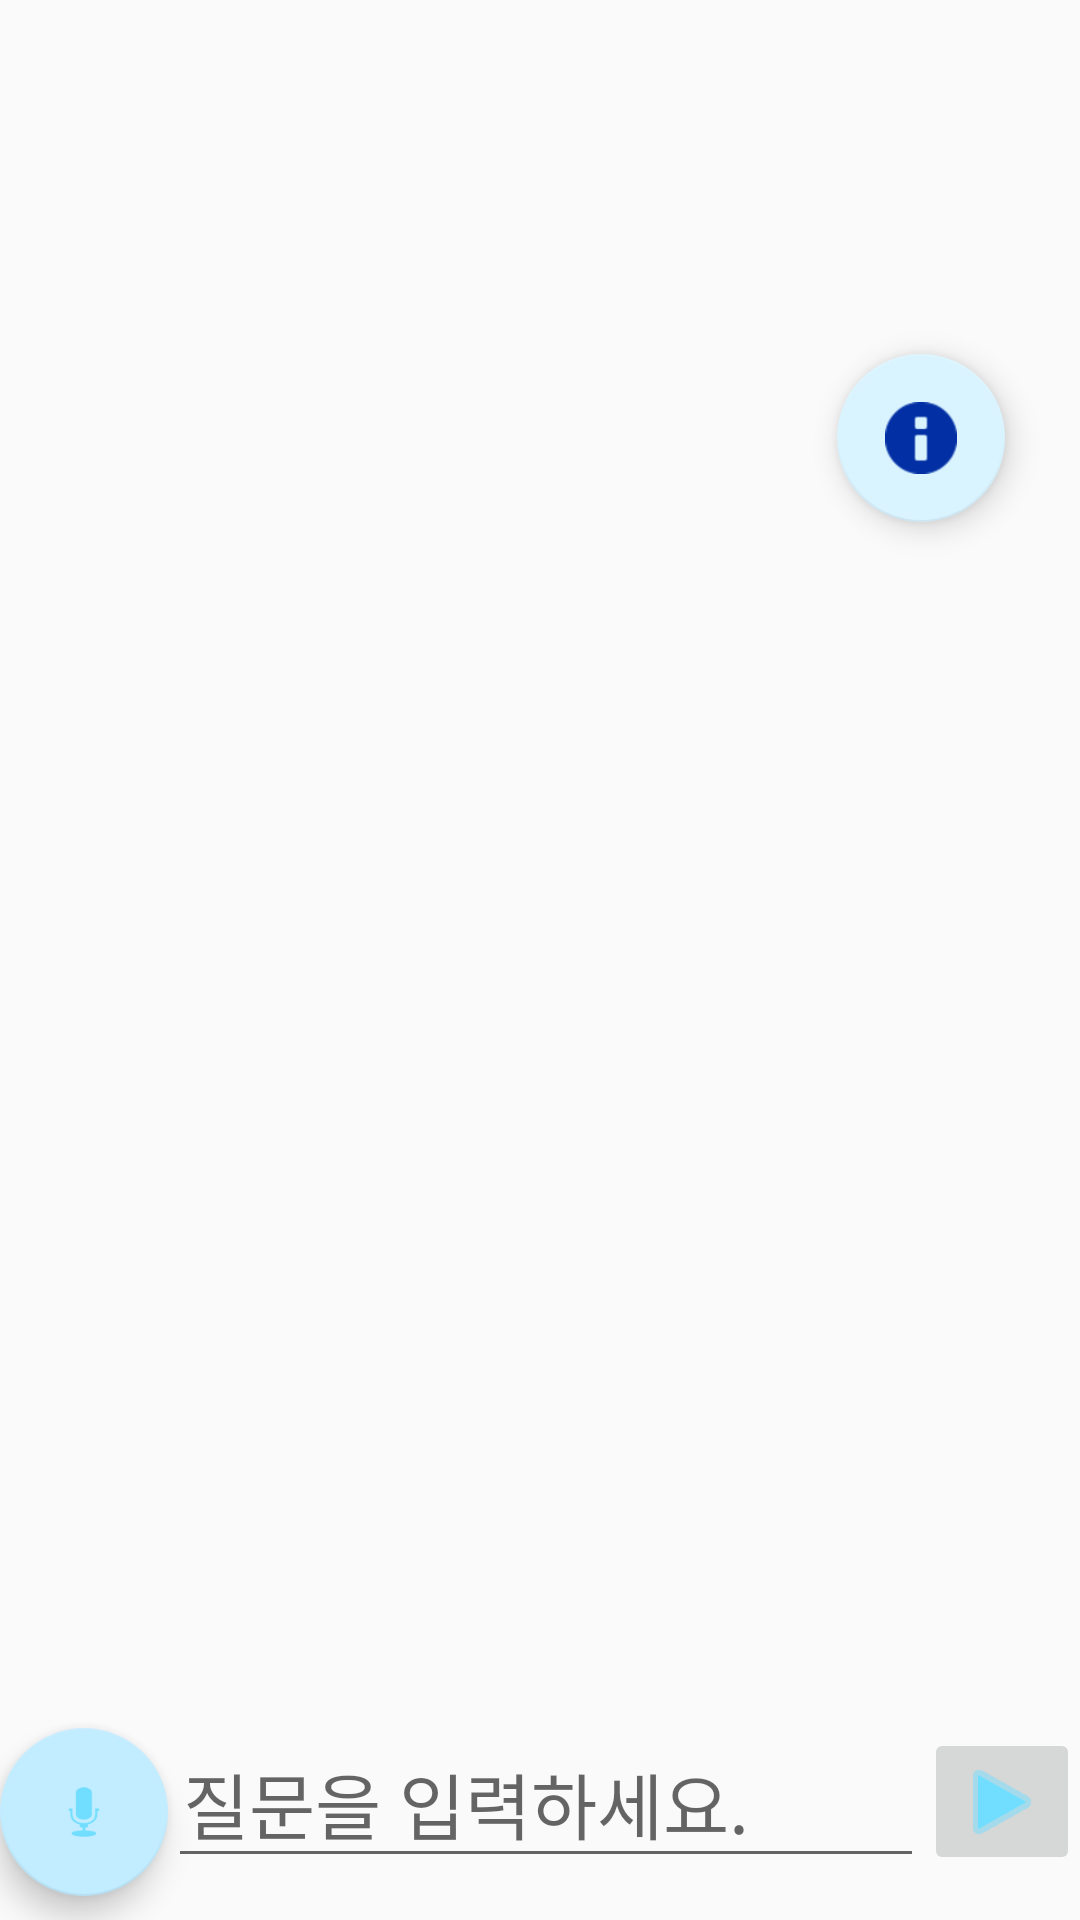

Named icons in this screenshot (1080w x 1920h) and their bounding boxes, (x1, y1, x2, y2):
info: (837, 356, 1005, 522)
play: (936, 1746, 1068, 1857)
speak now: (0, 1728, 168, 1896)
